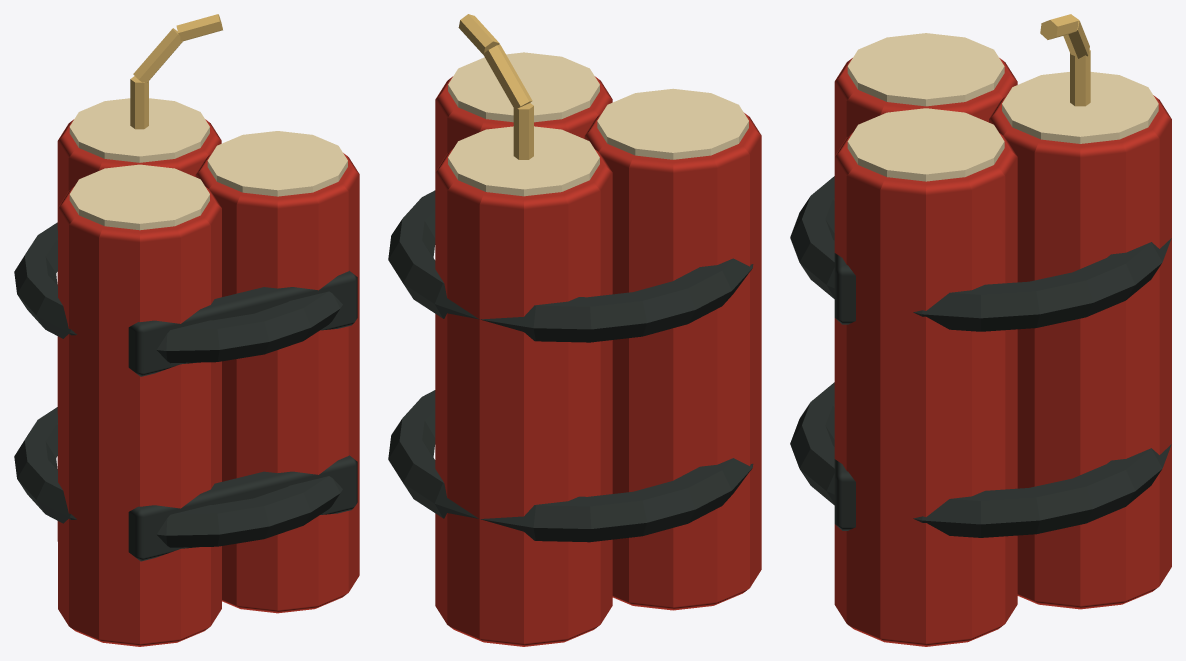
File: Dynamite.glb
3 views of the same model, side by side, from view 1: azimuth 30°, elevation 25°; view 2: azimuth 150°, elevation 25°; view 3: azimuth 270°, elevation 25° (orthographic). The views are drawn at different scales.
Parts seen in each view (by area): view 1: Dynamite; view 2: Dynamite; view 3: Dynamite.
Part boxes in pixels (<box>): Dynamite: <box>14,14,359,646</box>; Dynamite: <box>388,14,761,646</box>; Dynamite: <box>790,14,1171,646</box>.
Bounding box in the file's own units: 0.146 × 0.2489 × 0.146.
